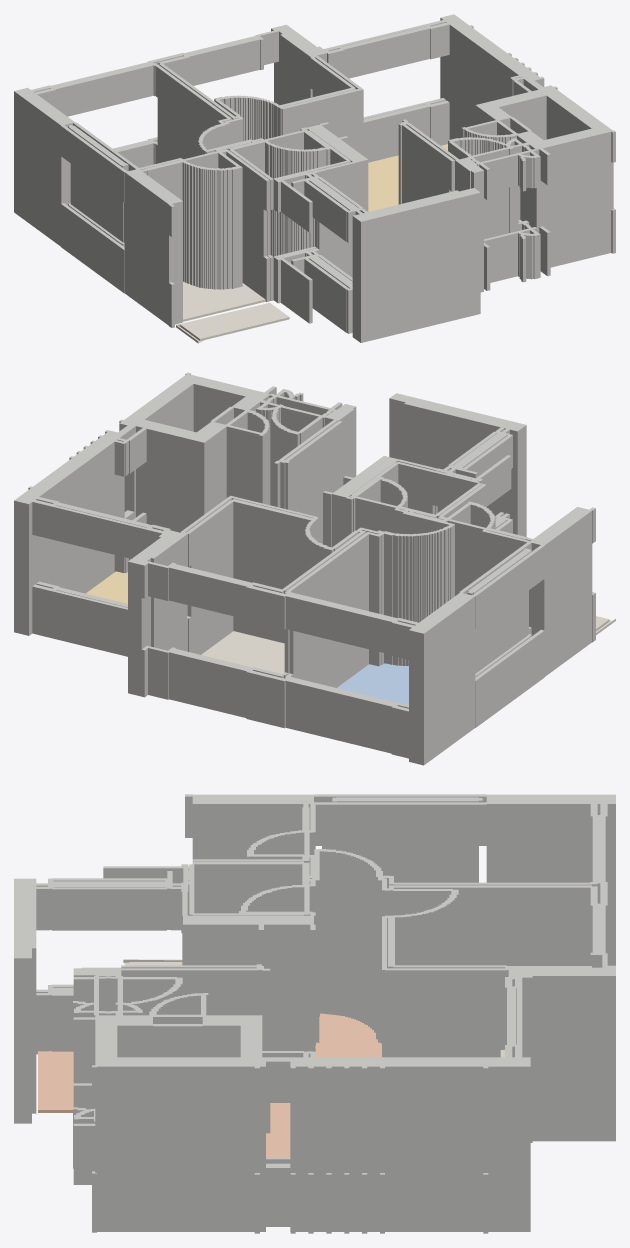
The picture shows the model from 3 angles, top to bottom: view 1: azimuth 30°, elevation 25°; view 2: azimuth 150°, elevation 25°; view 3: azimuth 270°, elevation 25°; orthographic projection. The views are drawn at different scales.
Parts seen in each view (by area): view 1: walls, room:other:12, room:other:8, room:living:1; view 2: walls, room:other:4, room:bedroom:0, room:living:1; view 3: walls, room:kitchen:2, room:kitchen:3.
Boxes of the visible parts, x1,y1,x2,y2 form: walls: (14,14,615,342); room:other:12: (176,303,289,343); room:other:8: (183,281,265,321); room:living:1: (368,144,447,211); walls: (14,372,595,765); room:other:4: (201,631,284,673); room:bedroom:0: (337,663,408,704); room:living:1: (86,571,127,603); walls: (14,794,615,1233); room:kitchen:2: (266,1013,381,1157); room:kitchen:3: (38,1051,73,1112).
Size of the model in its own units: 9.94 by 2.8 by 9.24.
